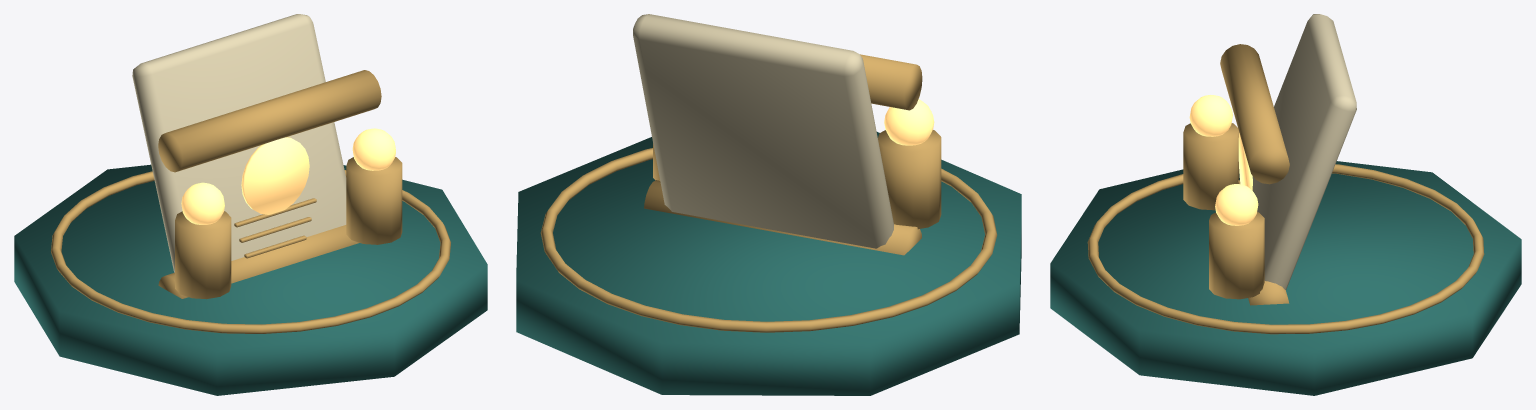
3 views of the same model, side by side, from view 1: azimuth 30°, elevation 25°; view 2: azimuth 150°, elevation 25°; view 3: azimuth 270°, elevation 25° (orthographic). The views are drawn at different scales.
Parts seen in each view (by area): view 1: Hexagonal plinth, Parchment, Binding.001, Inlaid rim, Tactical token.001, Tactical token, 3B embossed seal, Binding, Tactical head, Tactical head.001; view 2: Hexagonal plinth, Parchment, Inlaid rim, Tactical token, Binding.001, Binding, Tactical head; view 3: Hexagonal plinth, Parchment, Inlaid rim, Binding.001, Tactical token.001, Tactical token, Tactical head, Tactical head.001, Binding, 3B embossed seal.
Boxes of the visible parts, left/top/right/bottom form: Hexagonal plinth: left=14, top=164, right=487, bottom=395; Parchment: left=132, top=14, right=346, bottom=272; Binding.001: left=158, top=70, right=381, bottom=172; Inlaid rim: left=51, top=170, right=450, bottom=333; Tactical token.001: left=346, top=157, right=402, bottom=244; Tactical token: left=175, top=211, right=231, bottom=299; 3B embossed seal: left=241, top=137, right=309, bottom=214; Binding: left=158, top=225, right=359, bottom=298; Tactical head: left=181, top=182, right=224, bottom=224; Tactical head.001: left=352, top=128, right=395, bottom=170; Hexagonal plinth: left=516, top=132, right=1021, bottom=395; Parchment: left=633, top=14, right=893, bottom=248; Inlaid rim: left=540, top=148, right=997, bottom=332; Tactical token: left=878, top=130, right=941, bottom=229; Binding.001: left=860, top=54, right=922, bottom=110; Binding: left=644, top=180, right=921, bottom=255; Tactical head: left=884, top=99, right=934, bottom=145; Hexagonal plinth: left=1050, top=161, right=1521, bottom=395; Parchment: left=1252, top=14, right=1356, bottom=289; Inlaid rim: left=1087, top=164, right=1484, bottom=334; Binding.001: left=1220, top=44, right=1289, bottom=184; Tactical token.001: left=1209, top=212, right=1264, bottom=299; Tactical token: left=1183, top=123, right=1239, bottom=210; Tactical head: left=1189, top=95, right=1232, bottom=136; Tactical head.001: left=1215, top=184, right=1258, bottom=225; Binding: left=1248, top=281, right=1289, bottom=305; 3B embossed seal: left=1238, top=133, right=1252, bottom=190.
Bounding box in the file's own units: 1.51 × 0.8899 × 1.51.
